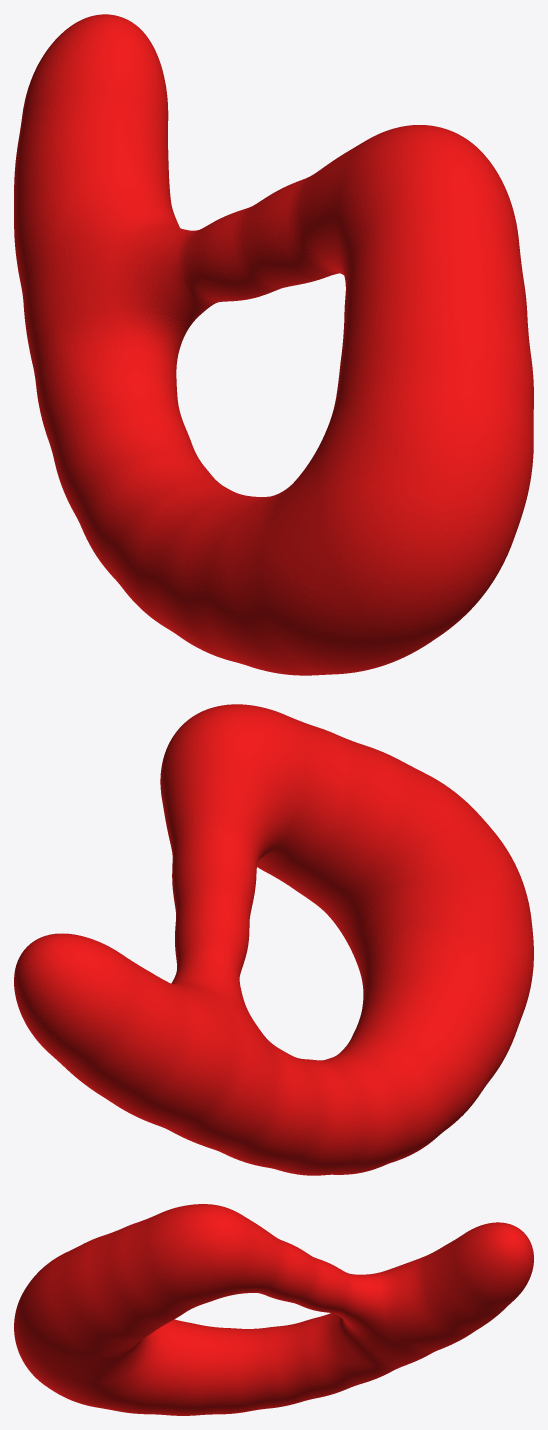
Rendered from mouth.obj.
3 renders of one model, top to bottom at view 1: azimuth 30°, elevation 25°; view 2: azimuth 150°, elevation 25°; view 3: azimuth 270°, elevation 25°, orthographic. The views are drawn at different scales.
Parts seen in each view (by area): view 1: model_1; view 2: model_1; view 3: model_1.
Boxes of the visible parts, left/top/right/bottom form: model_1: left=14, top=14, right=533, bottom=675; model_1: left=14, top=704, right=533, bottom=1175; model_1: left=14, top=1204, right=533, bottom=1415.
Size of the model in its own units: 94.95 by 121 by 219.
Materials: 1 (1 with a texture image).
